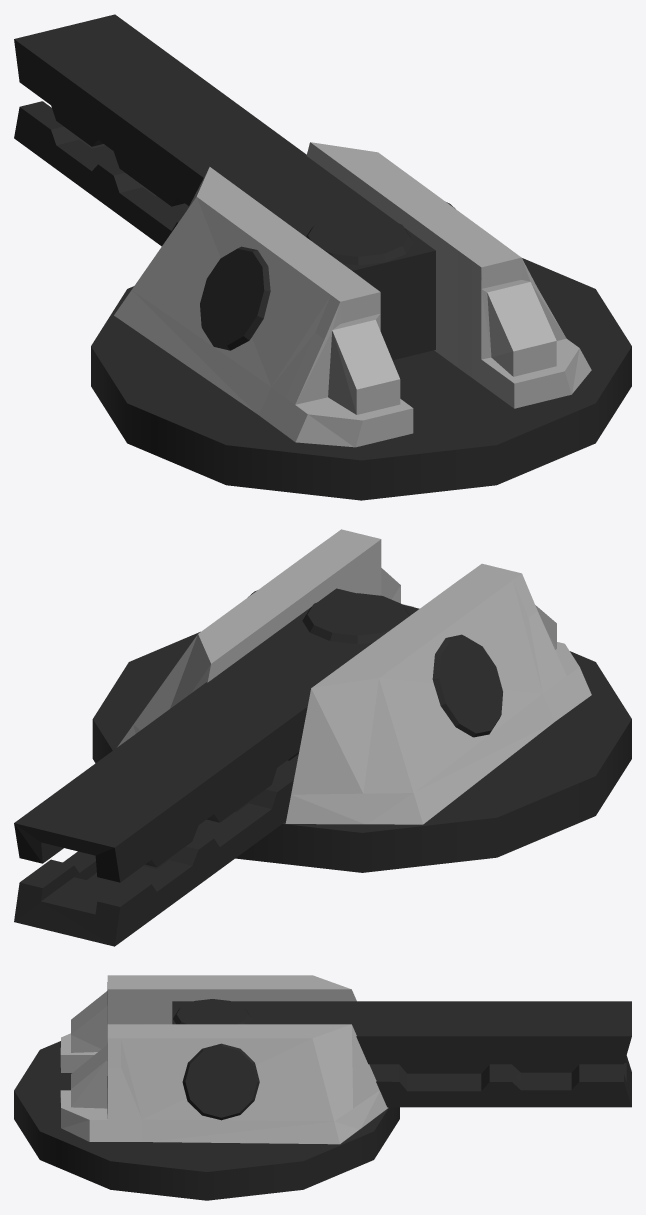
Rendered from MappedTurret.FBX.
3 views of the same model, one above another, from view 1: azimuth 30°, elevation 25°; view 2: azimuth 150°, elevation 25°; view 3: azimuth 270°, elevation 25° (orthographic). The views are drawn at different scales.
Visible parts, largest first — view 1: Cannon part, Box001, body; view 2: Cannon part, Box001, body; view 3: Cannon part, Box001, body.
Part boxes in pixels (left/top/right/bottom): Cannon part: left=114, top=142, right=591, bottom=447; Box001: left=14, top=14, right=435, bottom=360; body: left=91, top=258, right=631, bottom=500; Cannon part: left=117, top=529, right=591, bottom=824; Box001: left=14, top=588, right=419, bottom=946; body: left=92, top=631, right=631, bottom=872; Cannon part: left=60, top=975, right=387, bottom=1144; Box001: left=172, top=999, right=631, bottom=1107; body: left=14, top=1041, right=399, bottom=1200.
Bounding box in the file's own units: 5.68 × 1.83 × 9.1.
